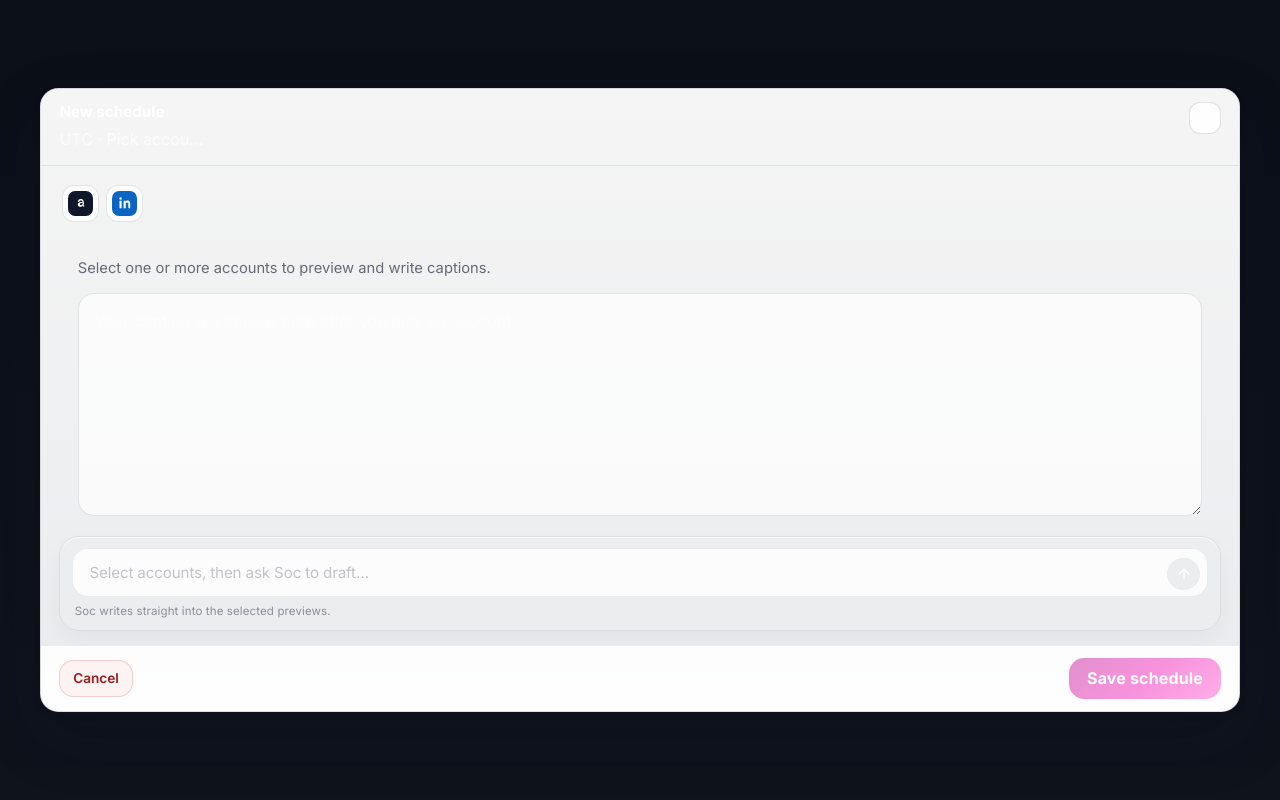
CreateScheduleModal › shows multiple preview panes and enables Soc draft after accounts are selected
Check: the text "Soc writes straight into the selected previews." is shown, box [75, 604, 331, 618]
Click the button named "Threads".
click(81, 204)  # box [62, 185, 99, 222]
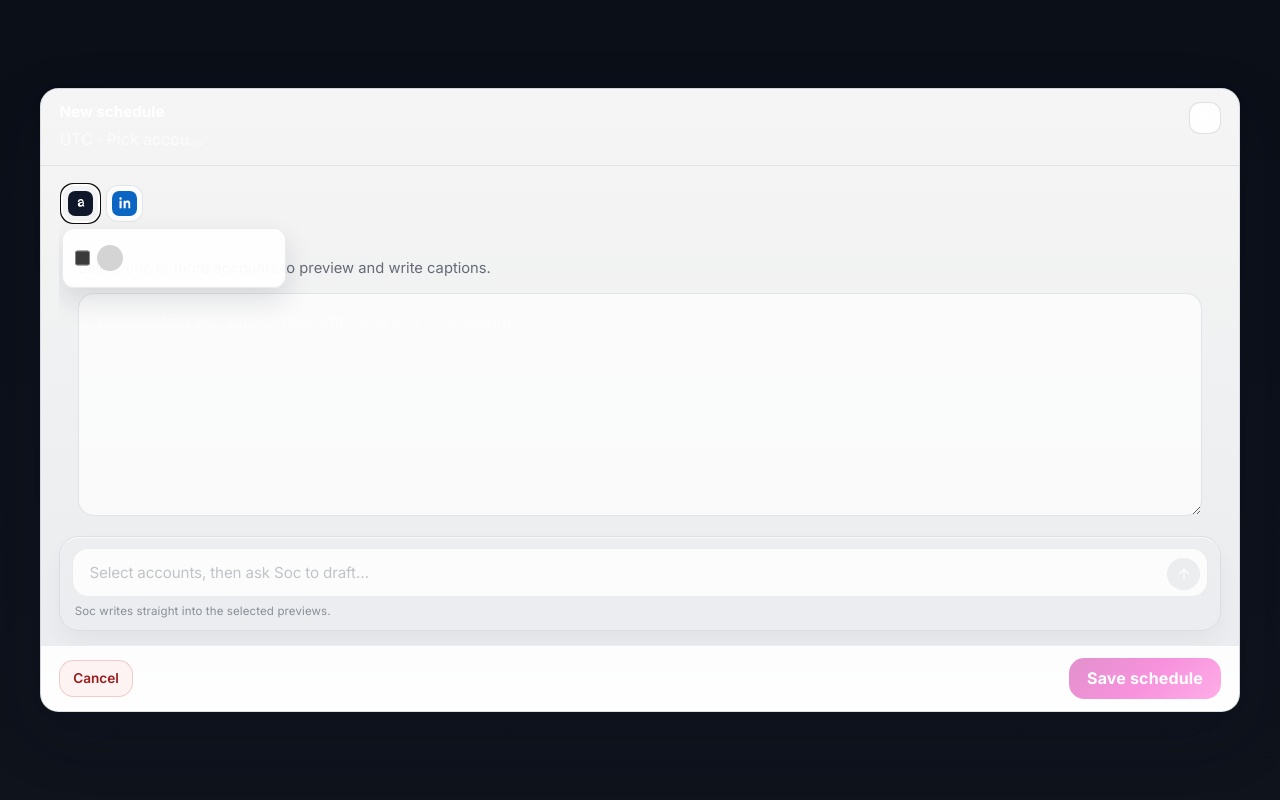
Click the checkbox labelled "Brand Co @brand".
click(82, 258)  # box [75, 250, 90, 266]
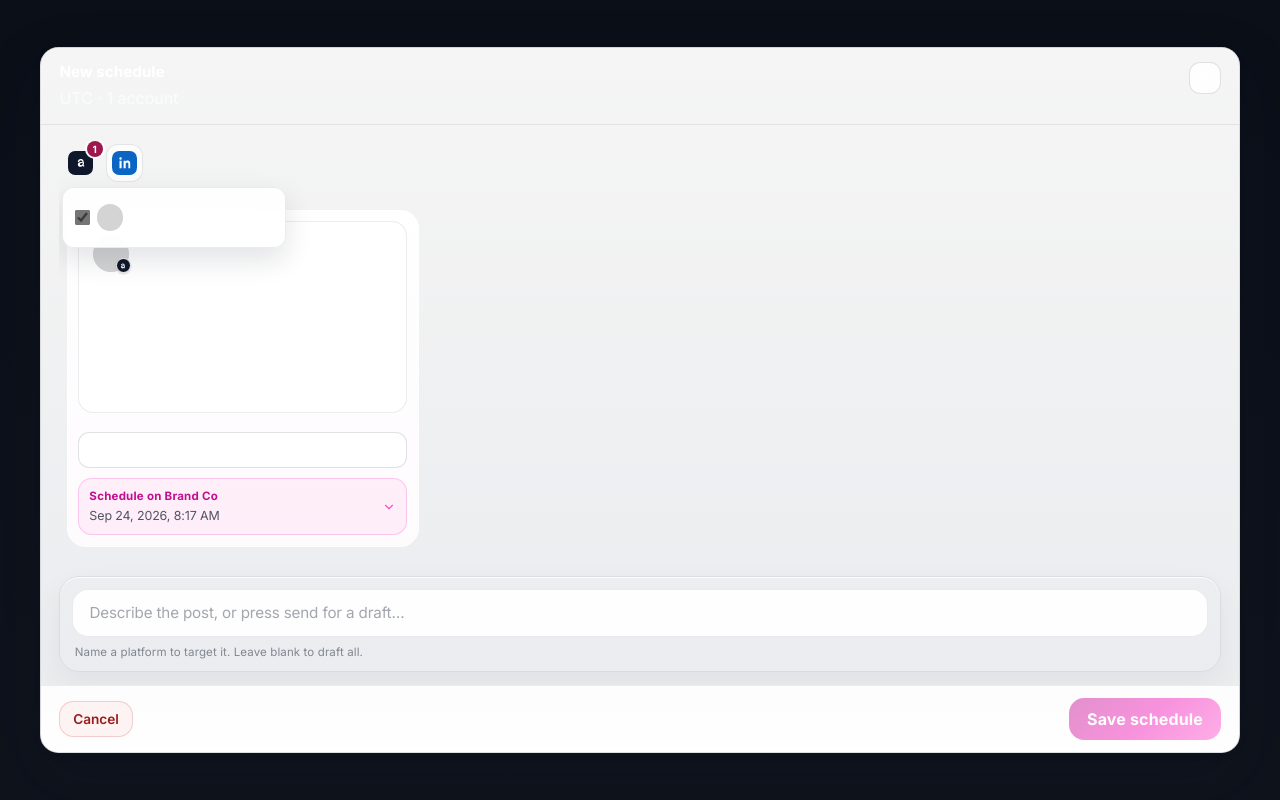
Click the button named "LinkedIn".
click(125, 163)  # box [106, 144, 143, 182]
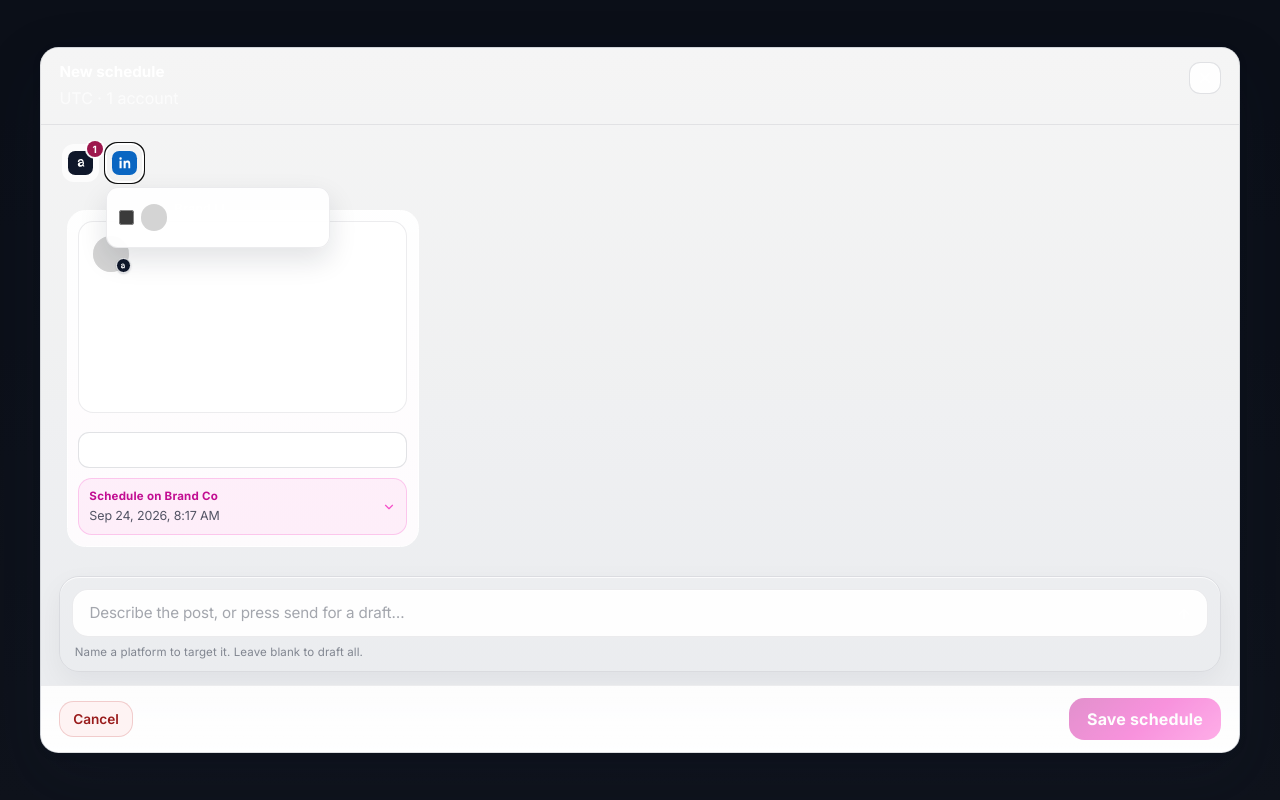
Click the checkbox labelled "Brand LI @brandli".
click(126, 218)  # box [118, 210, 134, 225]
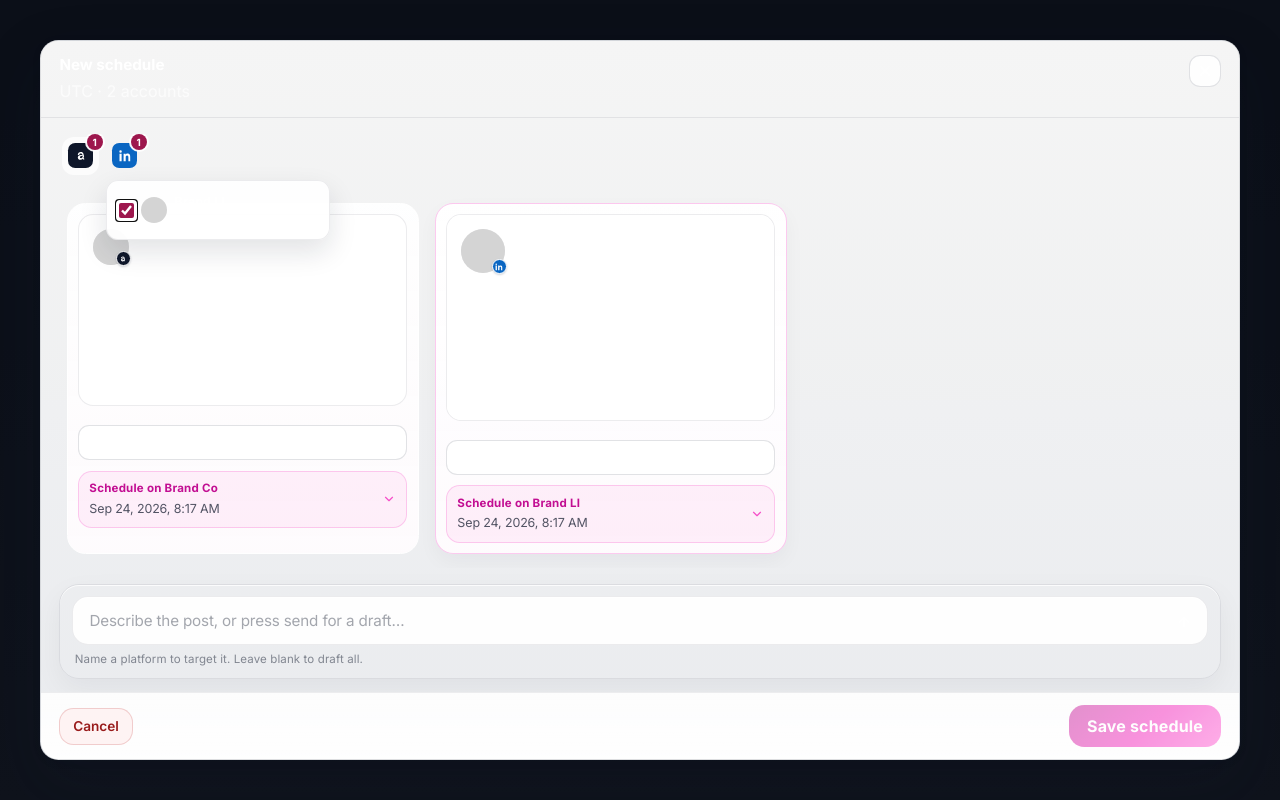
Check: the element named "Brand Co · Threads preview" is shown, box [67, 202, 419, 554]
Check: the element named "Brand LI · LinkedIn preview" is shown, box [435, 202, 787, 554]
